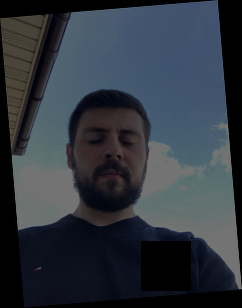without_mask: (74, 119, 146, 212)
